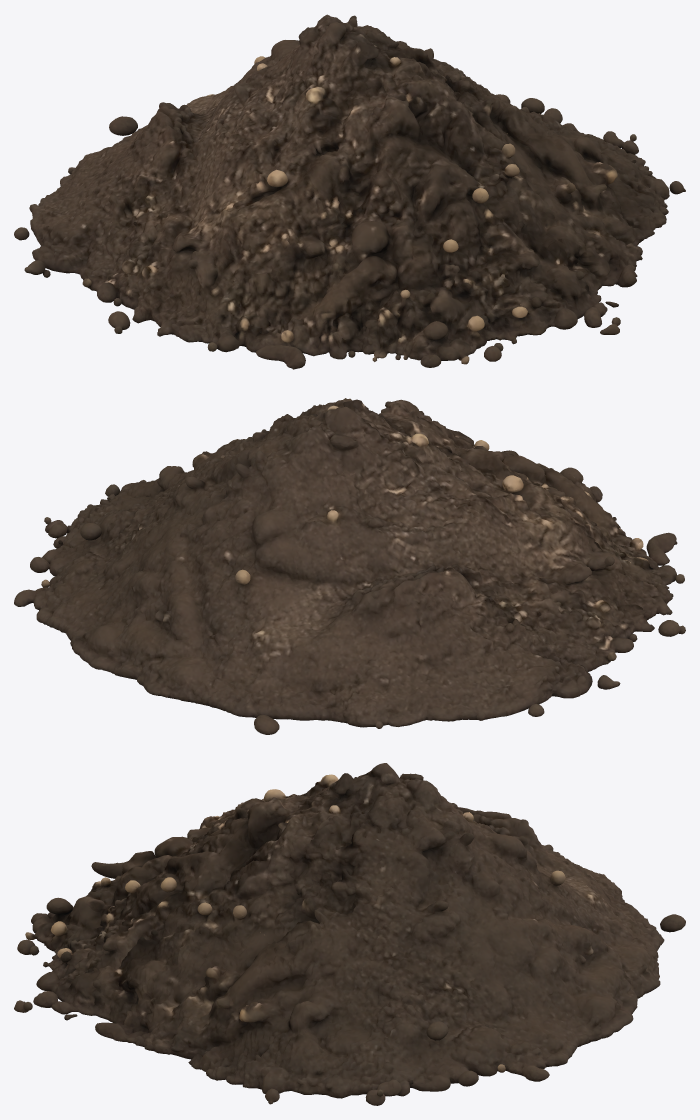
Rendered from lod_basic_shaded.fbx.
3 renders of one model, top to bottom at view 1: azimuth 30°, elevation 25°; view 2: azimuth 150°, elevation 25°; view 3: azimuth 270°, elevation 25°, orthographic.
Parts seen in each view (by area): view 1: model_LOD0; view 2: model_LOD0; view 3: model_LOD0.
Part boxes in pixels (box(x1,y1,x2,y2)): model_LOD0: box(14, 14, 685, 369); model_LOD0: box(14, 398, 685, 734); model_LOD0: box(14, 763, 685, 1105).
Size of what is drawn, in the model's own units: 192 by 62.47 by 190.
